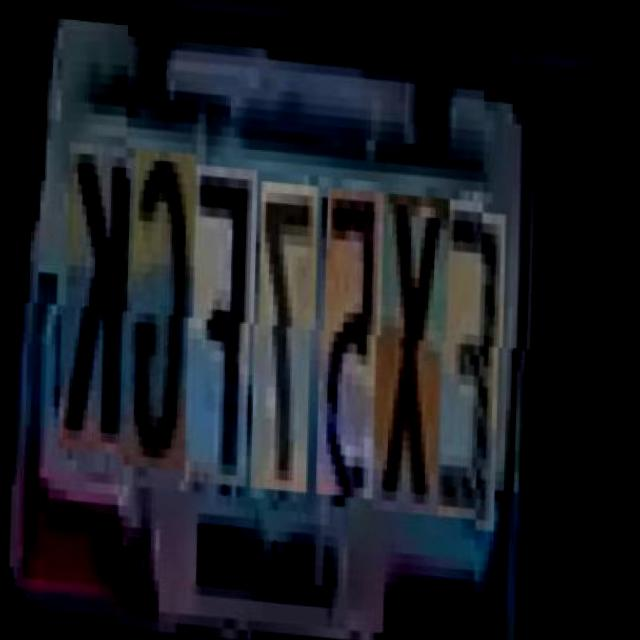5: (316, 192, 382, 504)
7: (250, 187, 316, 499)
e: (434, 201, 504, 523)
f: (185, 172, 256, 494)
g: (124, 158, 195, 479)
k: (57, 162, 133, 476)
x: (373, 197, 448, 519)
